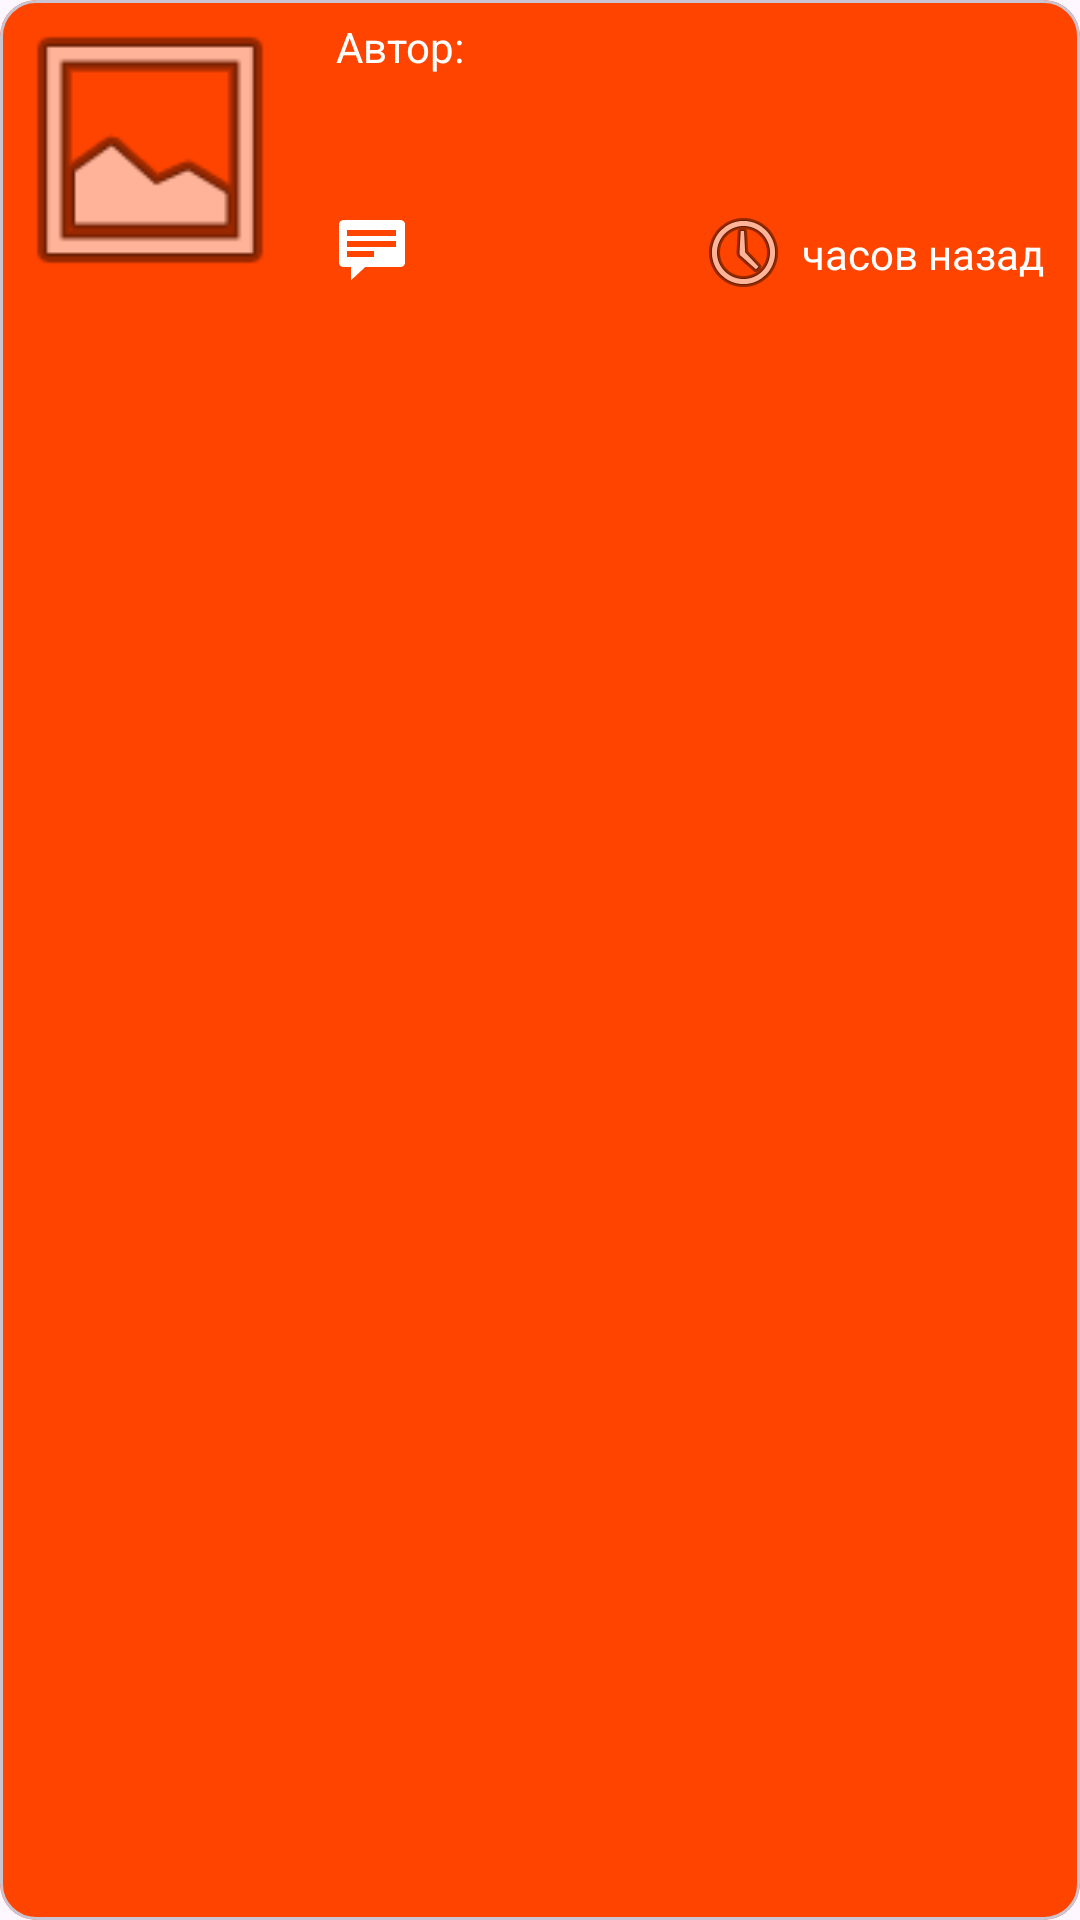

Locate icon controls on the screen. Image size 1080px×1920px, boxes as (x1, y1, x2, y2).
chat: (339, 220, 405, 280)
gallery: (37, 37, 263, 263)
recent history: (709, 218, 778, 287)
